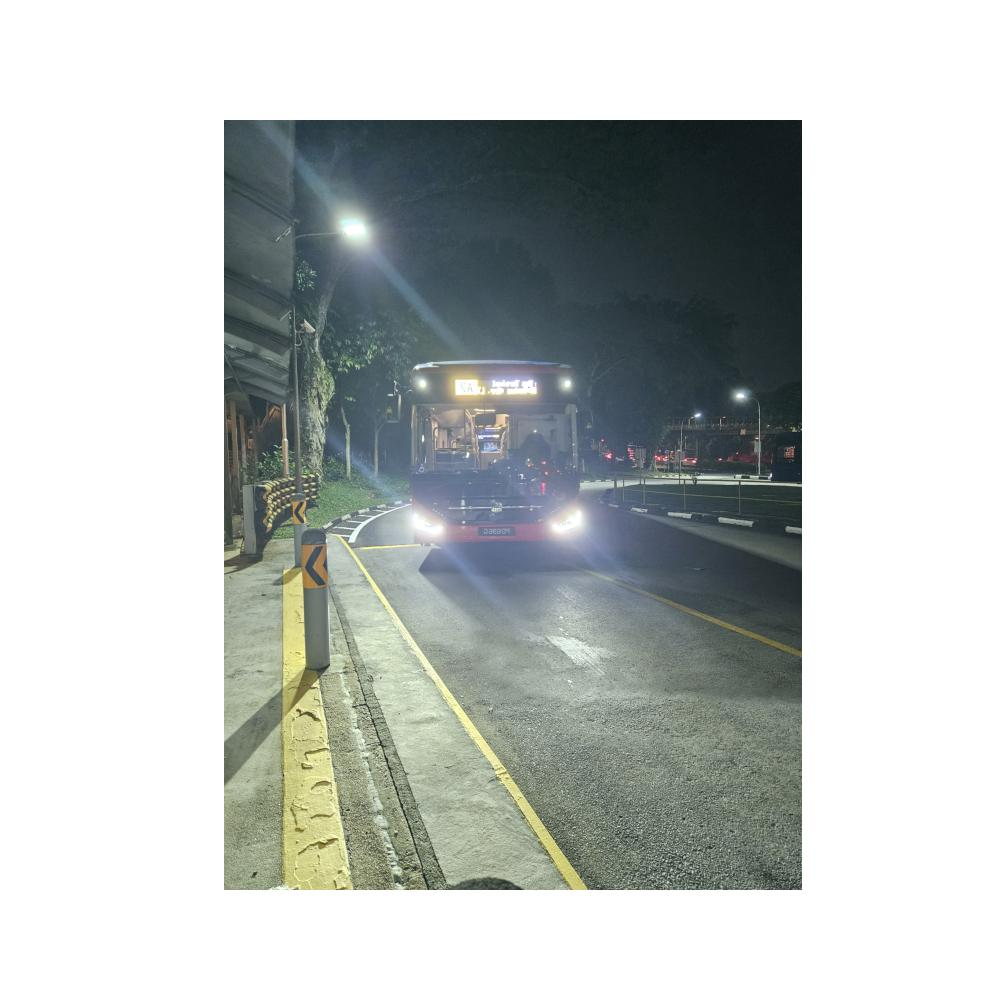bus: (389, 360, 595, 561)
